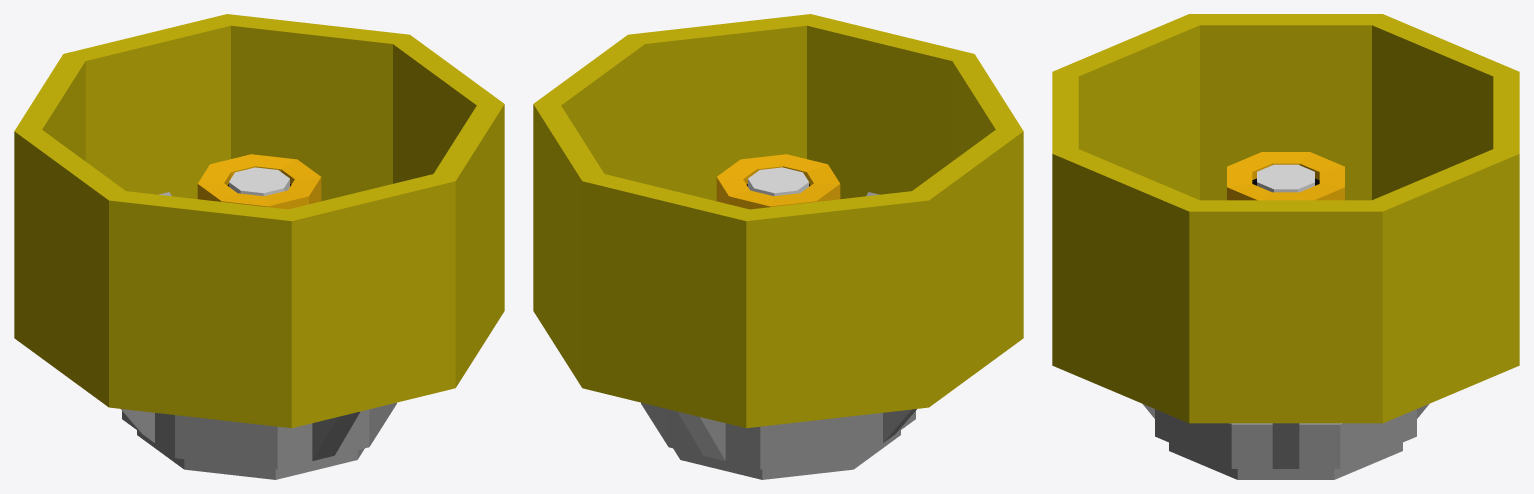
The model's file is epe_thruster_small.dae.
3 views of the same model, side by side, from view 1: azimuth 30°, elevation 25°; view 2: azimuth 150°, elevation 25°; view 3: azimuth 270°, elevation 25° (orthographic). The views are drawn at different scales.
Parts seen in each view (by area): view 1: thruster_small; view 2: thruster_small; view 3: thruster_small.
Part boxes in pixels (x1,y1,x2,y2): thruster_small: (14,14,504,479); thruster_small: (533,14,1023,479); thruster_small: (1052,14,1519,479).
Bounding box in the file's own units: 0.25 × 0.25 × 0.1875.
